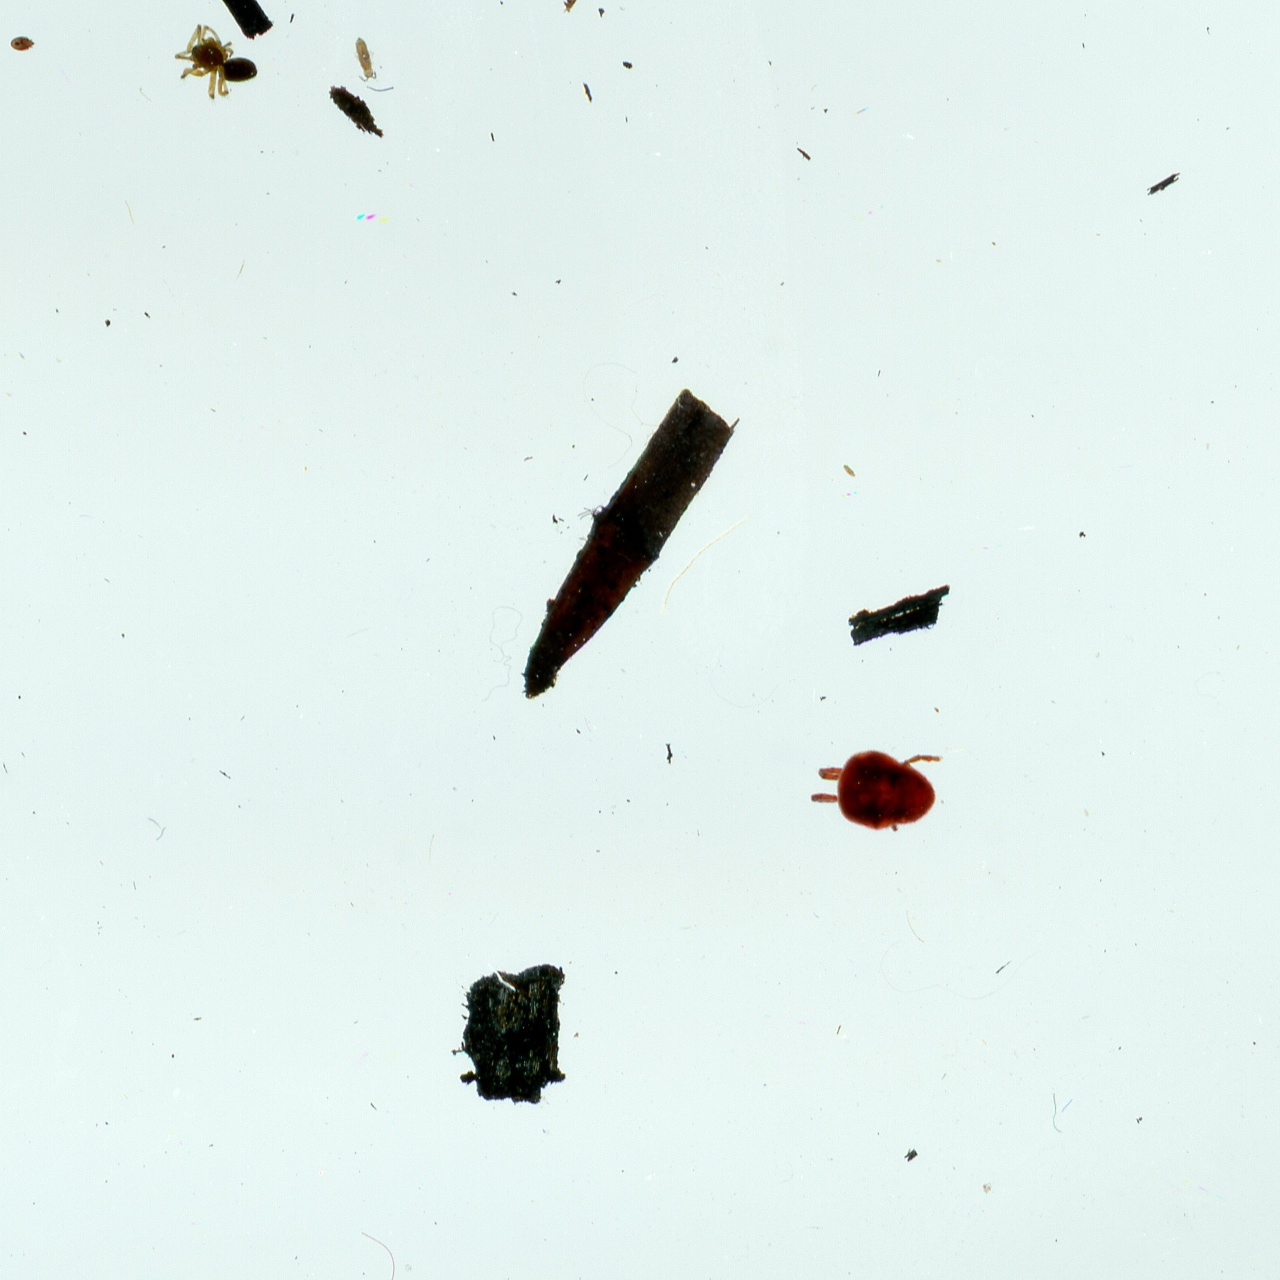arthropod: (806, 747, 947, 842), (171, 21, 259, 104), (352, 33, 382, 84), (11, 35, 36, 54)
